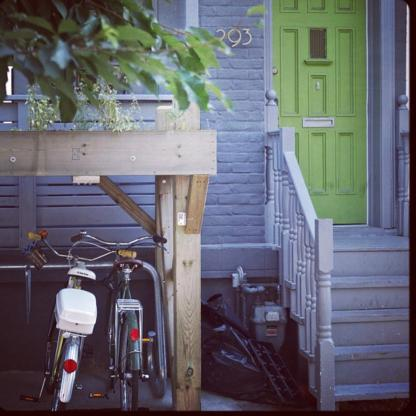door: (274, 5, 368, 220)
